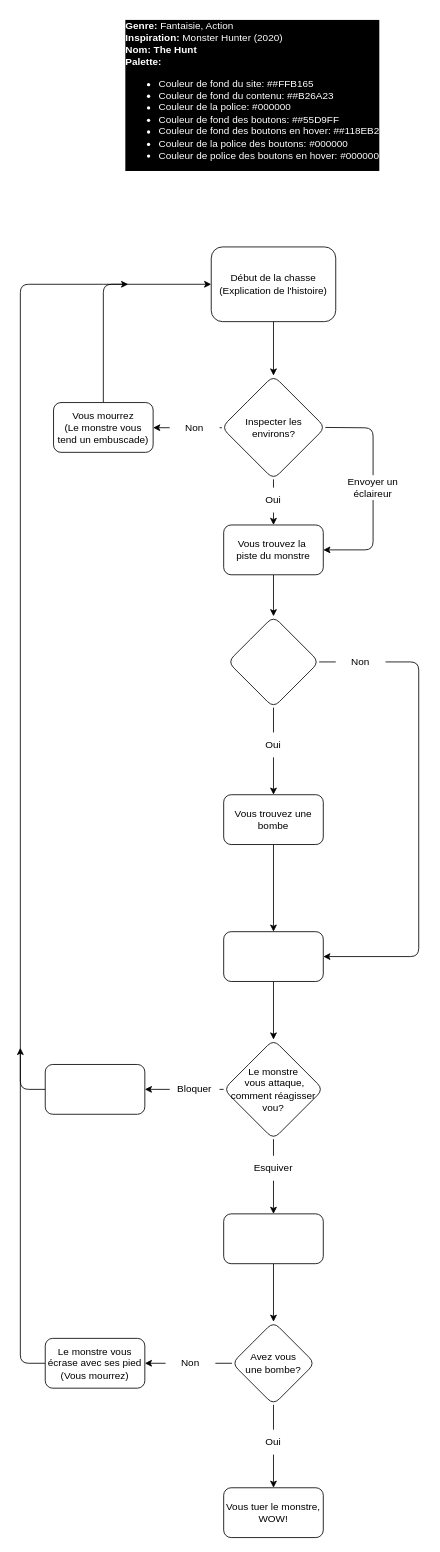
Image size: 440x1552. Some labels were removed from this diagram. The shapes that lost their labels are listed below. From the top down, each one's box as (x1, y1, x2, y2) in pixels, then its label:
(227, 615, 319, 708): Explorer les environs
(223, 931, 323, 981): Attaquer le monstre
(44, 1064, 145, 1114): L'attaque du monstre brise vos côte et vous mourrez as phixié
(223, 1213, 323, 1264): Le monstre est trop puissant! Il faut une attaque puissante pour en finir
